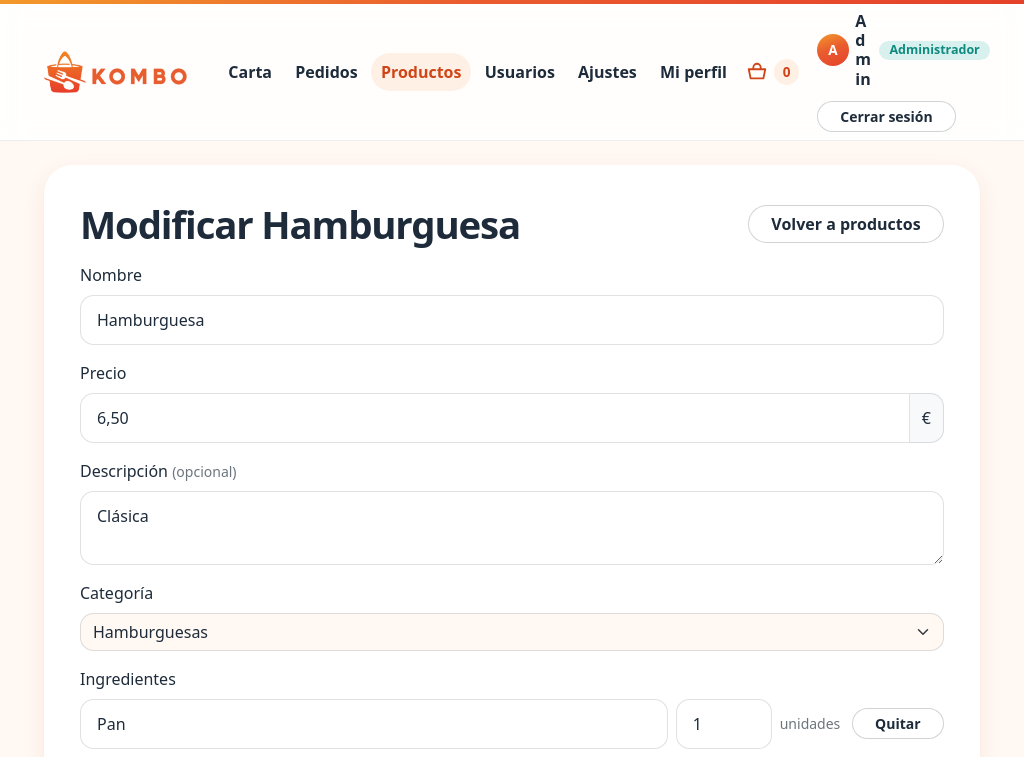
Test: ProductFormPage › changes a product, starting with its data, and removes an ingredient
Expected: the heading "Modificar Hamburguesa" is shown, [80,201,520,247]
Expected: the field labelled "Precio" holds "6,50", [80,393,910,443]
Click the button "Quitar".
click(898, 724)  # box [852,708,944,739]
(page scrolled)
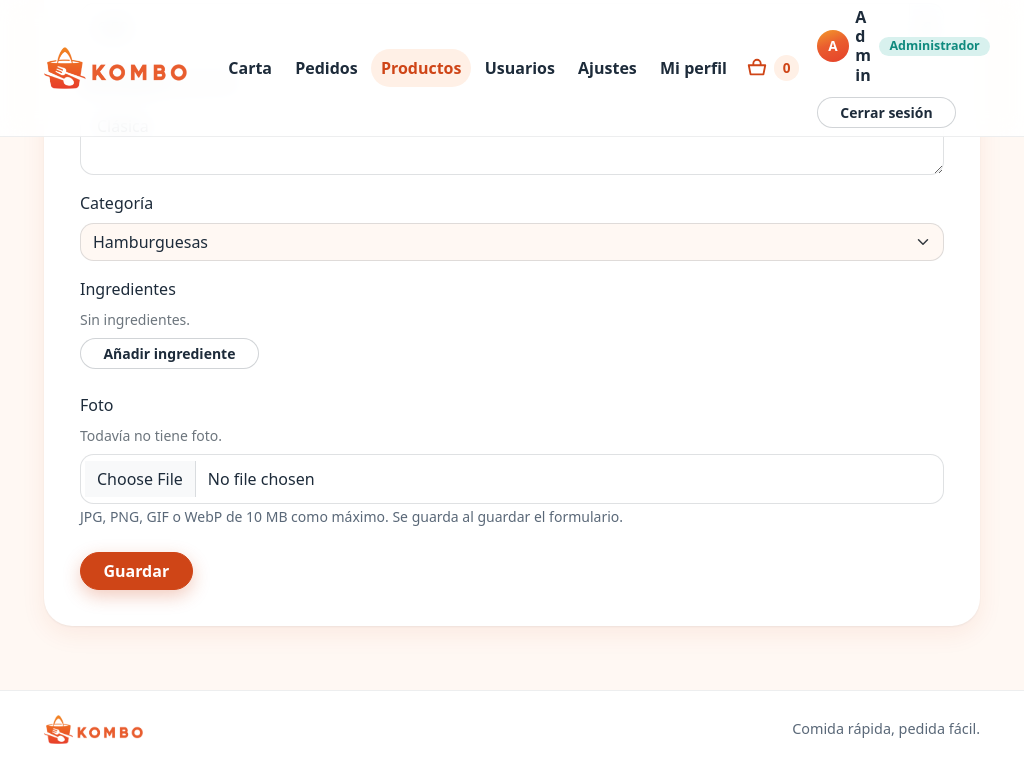
Click the button "Guardar".
click(136, 571)  # box [80,552,192,590]
(page scrolled)
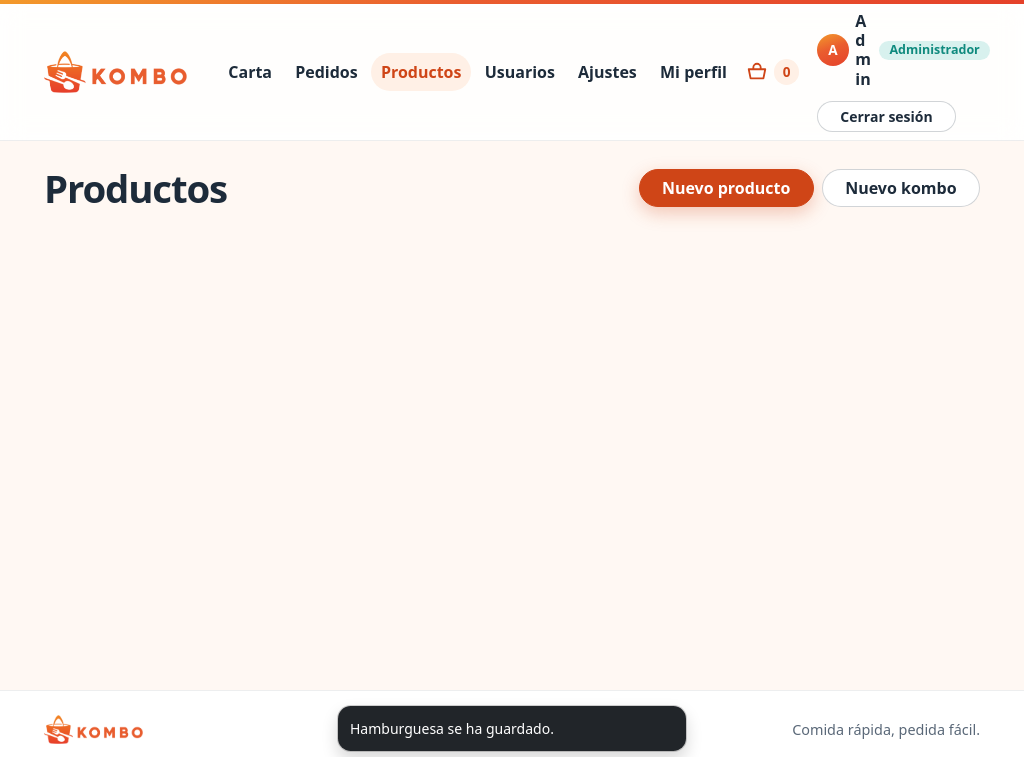
Now the text "Hamburguesa se ha guardado." is shown, box [350,719,554,738]
